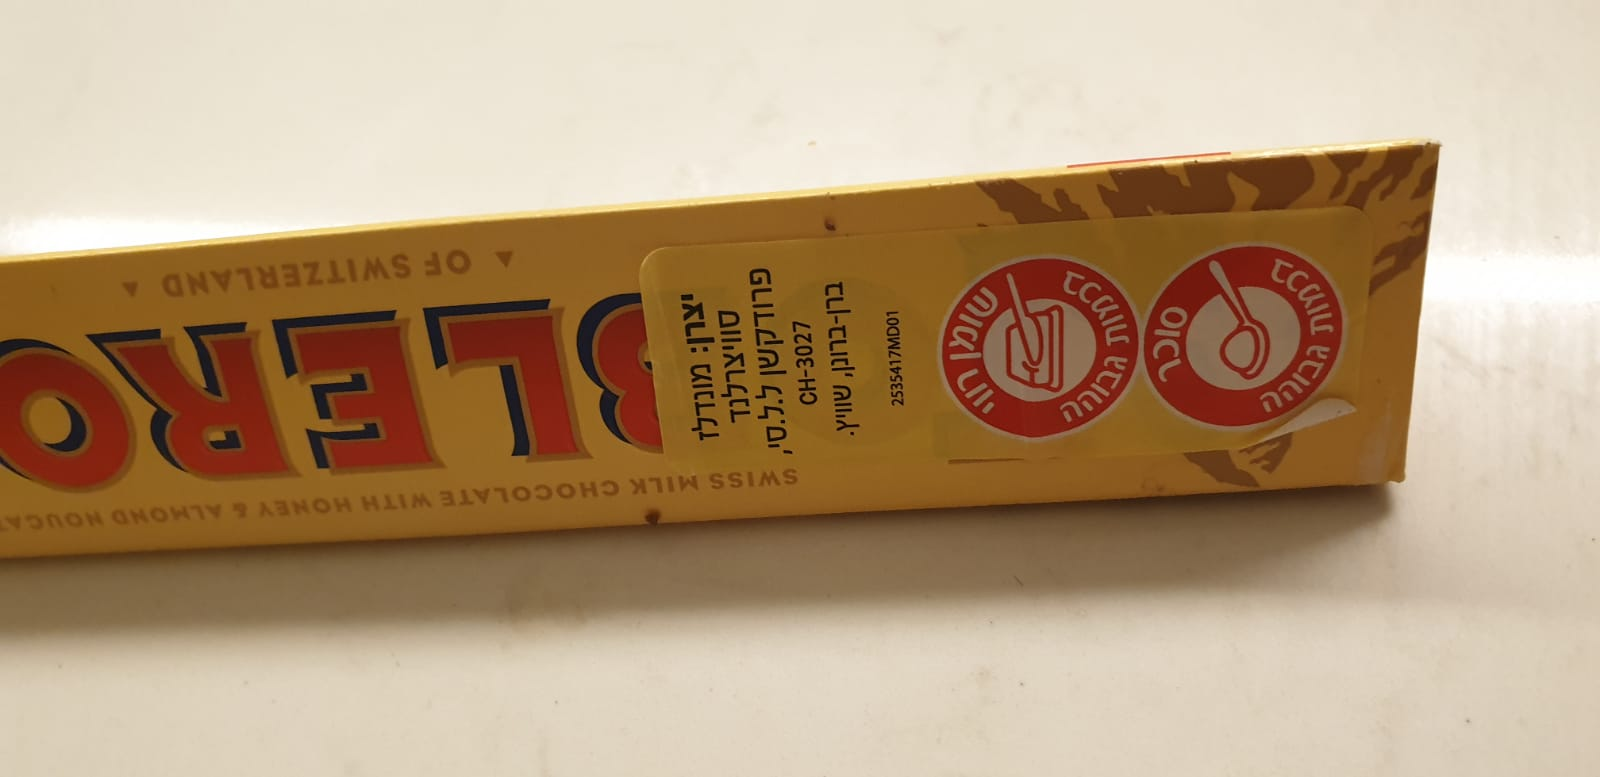fat: (938, 254, 1143, 440)
sugar: (1139, 242, 1349, 433)
